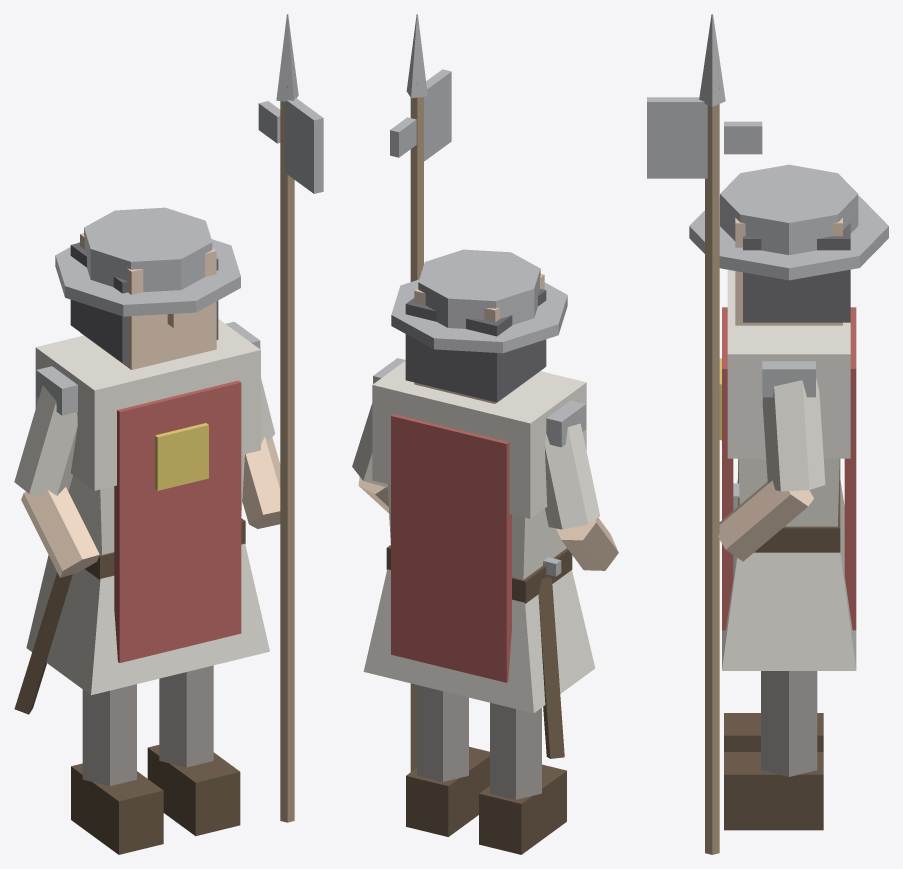
The model's file is char_guard.glb.
3 views of the same model, side by side, from view 1: azimuth 30°, elevation 25°; view 2: azimuth 150°, elevation 25°; view 3: azimuth 270°, elevation 25° (orthographic). The views are drawn at different scales.
Parts seen in each view (by area): view 1: char_guard; view 2: char_guard; view 3: char_guard.
Part boxes in pixels (<box>): char_guard: <box>14,14,323,854</box>; char_guard: <box>352,14,618,854</box>; char_guard: <box>647,14,888,854</box>.
Bounding box in the file's own units: 0.7764 × 2.4 × 0.63.
